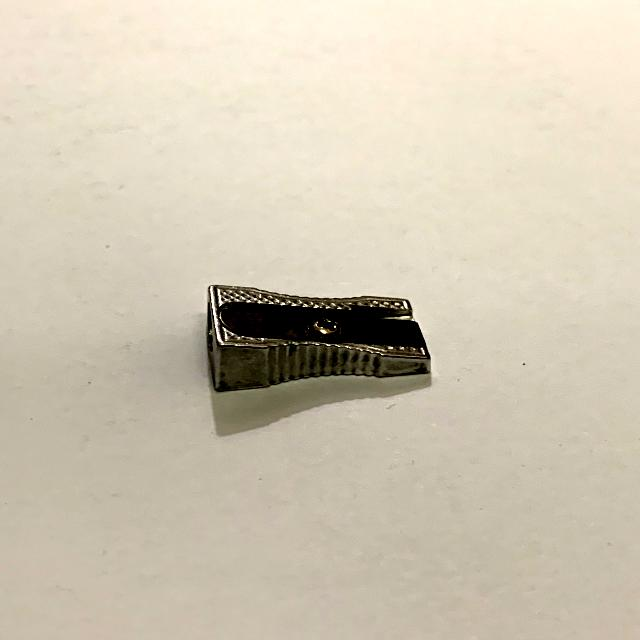Sharpner: (184, 264, 454, 403)
